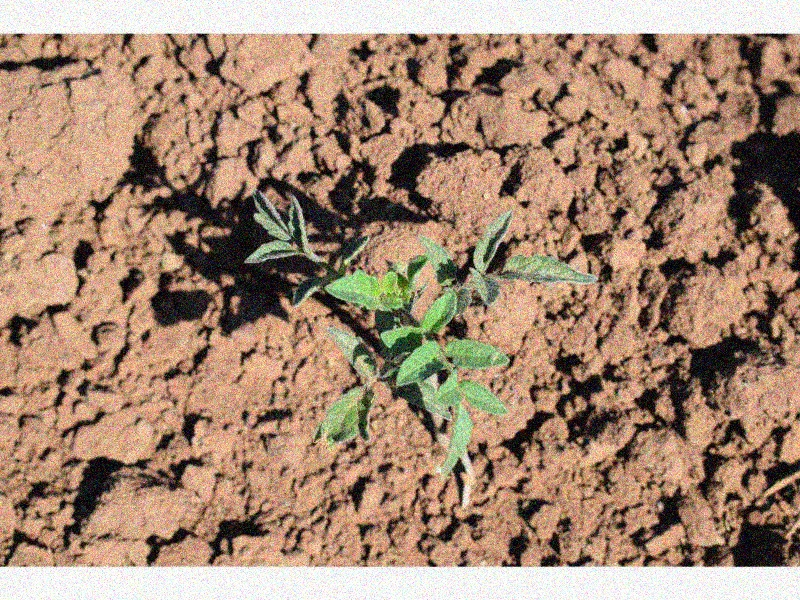tomato: (249, 187, 598, 475)
